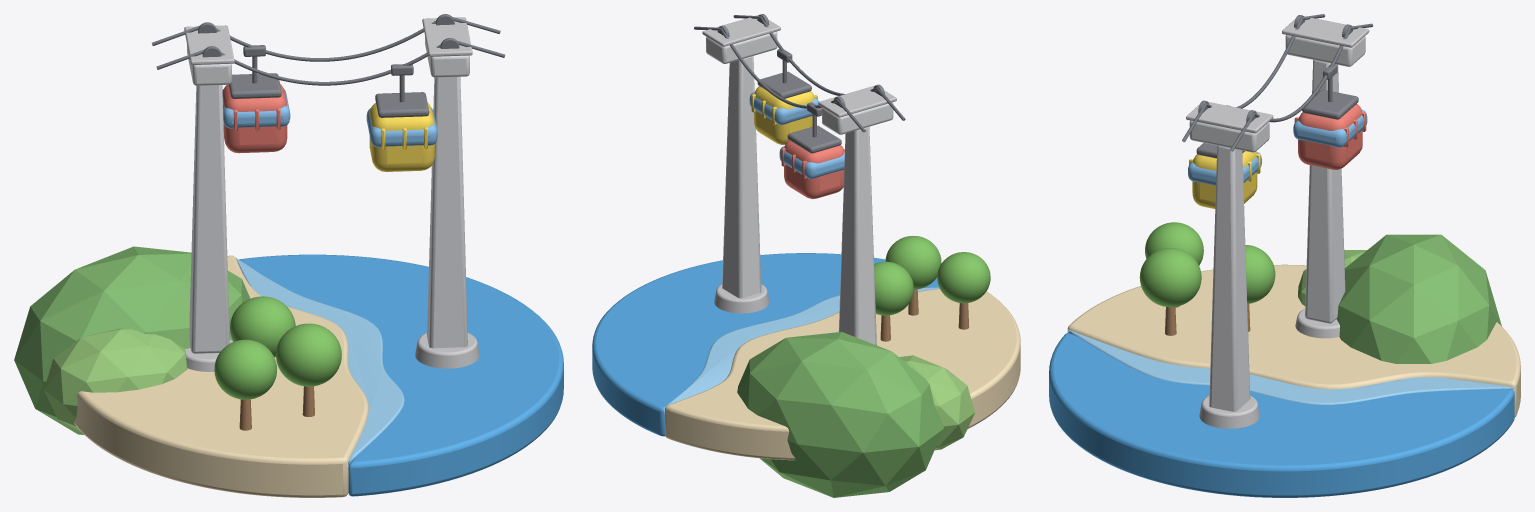
Rendered from sondocablecar.glb.
3 renders of one model, left to right at view 1: azimuth 30°, elevation 25°; view 2: azimuth 150°, elevation 25°; view 3: azimuth 270°, elevation 25°, orthographic. The views are drawn at different scales.
Visible parts, largest first — view 1: Base_Sea, Base_Sand, Hill, Tower0_Pylon, Tower1_Pylon, Hill2, Sea_Shallow, Tree2_Crown, Tree1_Crown.001, Tree0_Crown.001, GondolaYellow_Body, GondolaRed_Body (+11 smaller); view 2: Hill, Base_Sea, Base_Sand, Tower1_Pylon, Tower0_Pylon, Sea_Shallow, Hill2, Tree1_Crown.001, GondolaRed_Body, Tree2_Crown, Tree0_Crown.001, GondolaYellow_Body (+11 smaller); view 3: Base_Sea, Base_Sand, Hill, Tower1_Pylon, Tower0_Pylon, Sea_Shallow, Tree2_Crown, GondolaRed_Body, Tower1_Head, Tree1_Crown.001, Tower0_Head, Tower0_HeadCap (+10 smaller).
Boxes of the visible parts, x1,y1,x2,y2 form: Base_Sea: [239, 254, 563, 496]; Base_Sand: [74, 255, 368, 497]; Hill: [14, 246, 250, 434]; Tower0_Pylon: [189, 85, 229, 353]; Tower1_Pylon: [427, 77, 467, 348]; Hill2: [44, 328, 187, 431]; Sea_Shallow: [236, 258, 404, 468]; Tree2_Crown: [276, 323, 341, 386]; Tree1_Crown.001: [214, 339, 276, 399]; Tree0_Crown.001: [230, 296, 295, 357]; GondolaYellow_Body: [369, 103, 434, 171]; GondolaRed_Body: [222, 84, 287, 153]; Hill: [737, 331, 943, 497]; Base_Sea: [592, 253, 938, 436]; Base_Sand: [665, 288, 1020, 460]; Tower1_Pylon: [722, 56, 761, 298]; Tower0_Pylon: [838, 126, 876, 345]; Sea_Shallow: [664, 287, 939, 413]; Hill2: [899, 355, 975, 450]; Tree1_Crown.001: [937, 252, 990, 303]; GondolaRed_Body: [784, 140, 844, 199]; Tree2_Crown: [885, 236, 941, 289]; Tree0_Crown.001: [874, 261, 913, 315]; GondolaYellow_Body: [754, 86, 814, 144]; Base_Sea: [1049, 333, 1514, 497]; Base_Sand: [1067, 264, 1520, 417]; Hill: [1337, 234, 1501, 363]; Tower1_Pylon: [1209, 145, 1250, 411]; Tower0_Pylon: [1305, 60, 1345, 323]; Sea_Shallow: [1067, 329, 1514, 404]; Tree2_Crown: [1139, 248, 1201, 307]; GondolaRed_Body: [1298, 104, 1362, 169]; Tower1_Head: [1189, 120, 1269, 152]; Tree1_Crown.001: [1145, 222, 1203, 265]; Tower0_Head: [1285, 35, 1365, 66]; Tower0_HeadCap: [1282, 16, 1369, 47].
Size of the model in its own units: 6.49 by 6.01 by 6.4.
